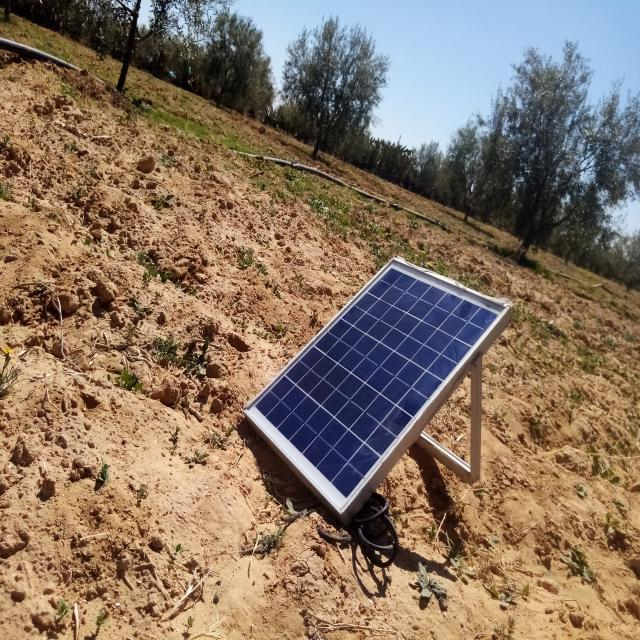no faulty: (245, 257, 508, 511)
